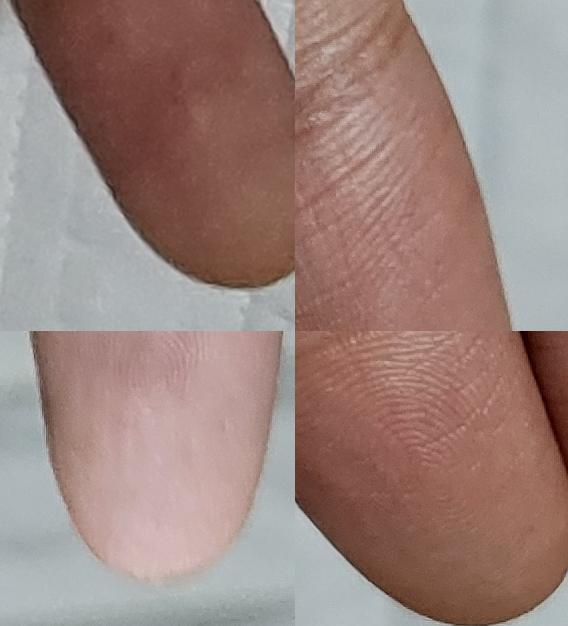Fingerprints: (12, 0, 295, 289), (295, 331, 568, 626), (295, 16, 513, 331), (32, 331, 283, 580)
